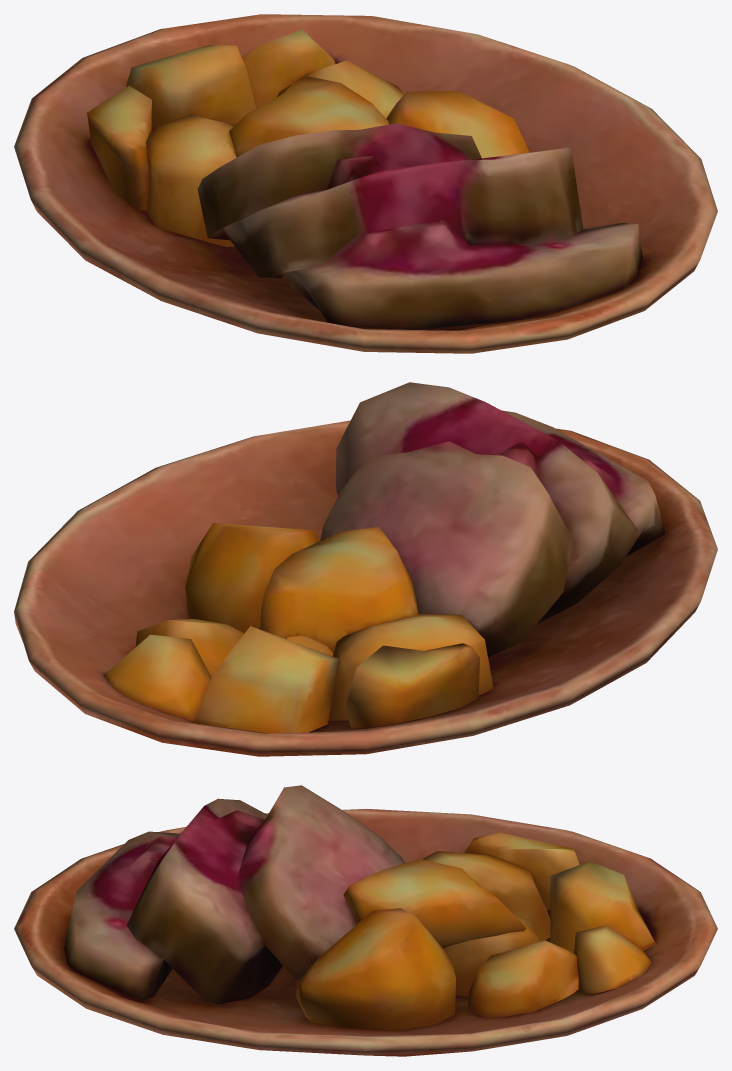
3 renders of one model, top to bottom at view 1: azimuth 30°, elevation 25°; view 2: azimuth 150°, elevation 25°; view 3: azimuth 270°, elevation 25°, orthographic. The views are drawn at different scales.
Parts seen in each view (by area): view 1: SM_Item_Food_Roast_Dinner_LOD0; view 2: SM_Item_Food_Roast_Dinner_LOD0; view 3: SM_Item_Food_Roast_Dinner_LOD0.
Part boxes in pixels (x1,y1,x2,y2): SM_Item_Food_Roast_Dinner_LOD0: [14, 14, 717, 353]; SM_Item_Food_Roast_Dinner_LOD0: [14, 382, 717, 756]; SM_Item_Food_Roast_Dinner_LOD0: [14, 785, 717, 1056].
Size of the model in its own units: 0.3578 by 0.109 by 0.4454.
Materials: 1 (1 with a texture image).
